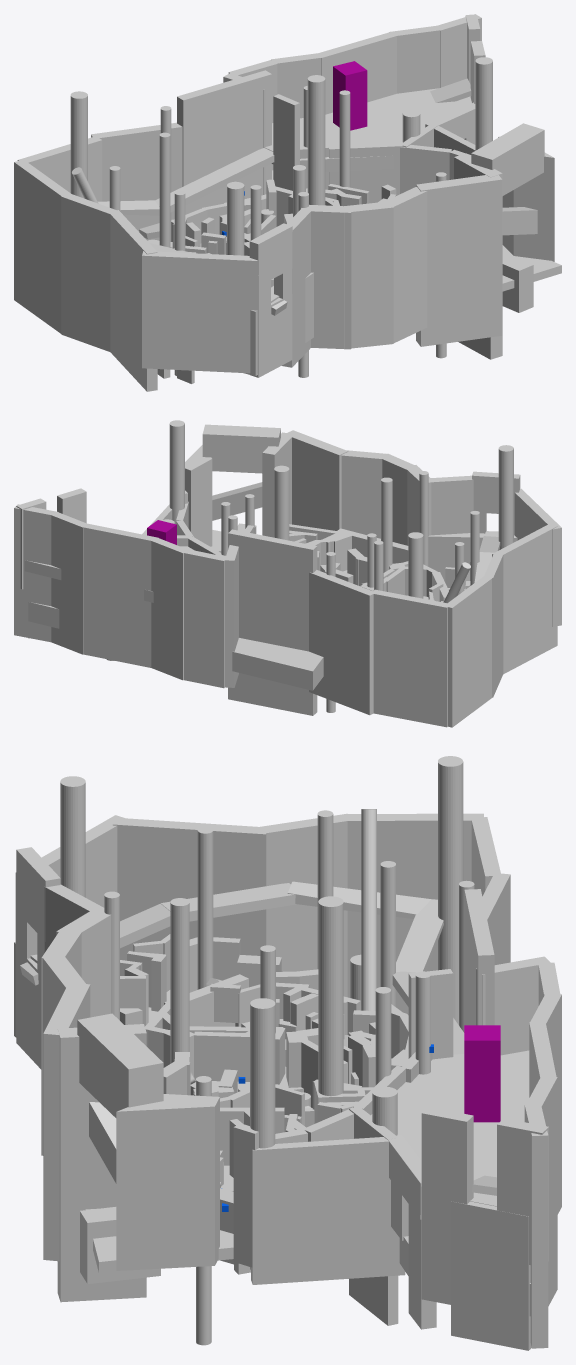
Rendered from Map_Cave_Dune.fbx.
The picture shows the model from 3 angles, top to bottom: view 1: azimuth 30°, elevation 25°; view 2: azimuth 150°, elevation 25°; view 3: azimuth 270°, elevation 25°; orthographic projection. The views are drawn at different scales.
Visible parts, largest first — view 1: Cubo_008, Cubo_002, Cubo_015, Cubo_011, Cubo_012, Cubo_004, Cubo_005, Cubo_010, Cubo_014, Cubo_003, Cubo_179, Cubo_162 (+40 smaller); view 2: Cubo_015, Cubo_013, Cubo_171, Cubo_014, Cubo_012, Cubo_010, Cubo_169, Cubo_002, Cubo_170, Cubo_172, Cubo_173, Cubo_167 (+32 smaller); view 3: Cubo_039, Cubo_162, Cubo_010, Cubo_176, Cubo_001, Cubo_012, Cubo_011, Cubo_175, Cubo_179, Cubo_191, Cubo_002, Cilindro_013 (+60 smaller).
Boxes of the visible parts, left/top/right/bottom form: Cubo_008: left=142, top=251, right=257, bottom=373; Cubo_002: left=416, top=175, right=502, bottom=346; Cubo_015: left=177, top=70, right=271, bottom=214; Cubo_011: left=61, top=193, right=116, bottom=351; Cubo_012: left=14, top=159, right=71, bottom=333; Cubo_004: left=341, top=202, right=393, bottom=348; Cubo_005: left=301, top=204, right=351, bottom=349; Cubo_010: left=110, top=210, right=157, bottom=391; Cubo_014: left=91, top=122, right=182, bottom=240; Cubo_003: left=382, top=187, right=427, bottom=342; Cubo_179: left=264, top=88, right=471, bottom=172; Cubo_162: left=498, top=136, right=554, bottom=261; Cubo_015: left=228, top=529, right=317, bottom=715; Cubo_013: left=371, top=589, right=447, bottom=727; Cubo_171: left=82, top=523, right=158, bottom=667; Cubo_014: left=309, top=570, right=373, bottom=715; Cubo_012: left=444, top=576, right=492, bottom=727; Cubo_010: left=492, top=523, right=557, bottom=674; Cubo_169: left=184, top=549, right=227, bottom=688; Cubo_002: left=287, top=430, right=348, bottom=530; Cubo_170: left=150, top=537, right=187, bottom=680; Cubo_172: left=51, top=512, right=88, bottom=654; Cubo_173: left=14, top=504, right=58, bottom=642; Cubo_167: left=28, top=602, right=323, bottom=690; Cubo_039: left=251, top=1135, right=405, bottom=1284; Cubo_162: left=116, top=1094, right=219, bottom=1270; Cubo_010: left=112, top=817, right=267, bottom=960; Cubo_176: left=451, top=1201, right=531, bottom=1350; Cubo_001: left=57, top=1024, right=146, bottom=1302; Cubo_012: left=344, top=813, right=483, bottom=1015; Cubo_011: left=257, top=813, right=352, bottom=997; Cubo_175: left=421, top=1107, right=473, bottom=1304; Cubo_179: left=371, top=1050, right=529, bottom=1206; Cubo_191: left=77, top=1013, right=163, bottom=1117; Cubo_002: left=43, top=982, right=90, bottom=1261; Cilindro_013: left=438, top=756, right=463, bottom=1024.
Size of the model in its own units: 9964 by 5226 by 6739.
